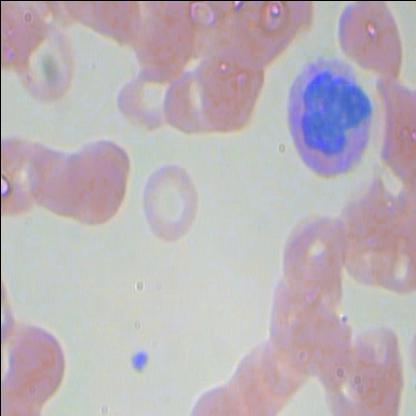Platelets: (126, 345, 152, 373)
RBC: (193, 43, 268, 140), (58, 134, 132, 232), (7, 16, 82, 102), (0, 316, 74, 402), (275, 209, 349, 294), (332, 1, 408, 83), (136, 157, 202, 245), (113, 60, 174, 130)
WBC: (282, 47, 380, 179)
